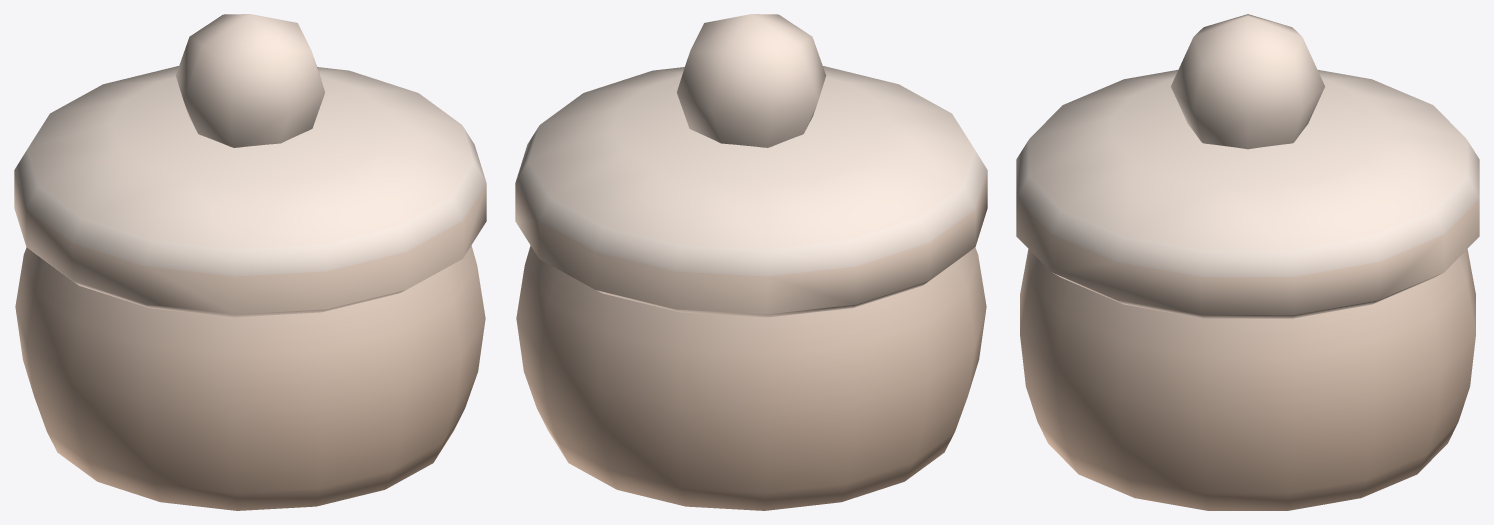
The model's file is Container Kitchen B.glb.
3 views of the same model, side by side, from view 1: azimuth 30°, elevation 25°; view 2: azimuth 150°, elevation 25°; view 3: azimuth 270°, elevation 25° (orthographic).
Parts seen in each view (by area): view 1: container_kitchen_B_white; view 2: container_kitchen_B_white; view 3: container_kitchen_B_white.
Boxes of the visible parts, left/top/right/bottom form: container_kitchen_B_white: left=14, top=14, right=486, bottom=510; container_kitchen_B_white: left=515, top=14, right=987, bottom=510; container_kitchen_B_white: left=1016, top=14, right=1479, bottom=510.
Bounding box in the file's own units: 0.4 × 0.3995 × 0.4.
1 material, 1 textured.
